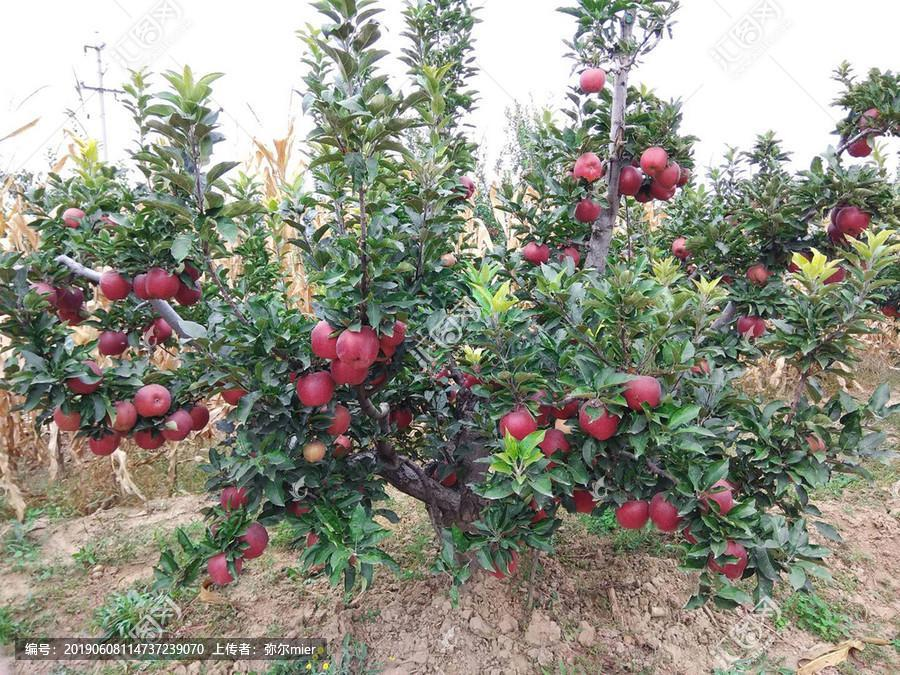apple: (335, 325, 380, 371), (577, 402, 619, 440), (708, 539, 746, 578), (295, 370, 335, 407), (619, 376, 660, 411), (134, 384, 173, 420), (650, 493, 683, 531), (501, 406, 536, 440), (699, 480, 731, 517), (310, 320, 336, 362), (107, 400, 139, 434), (836, 205, 870, 237), (239, 523, 270, 558), (143, 268, 177, 299), (617, 499, 649, 531), (208, 554, 240, 584), (101, 271, 134, 298), (537, 432, 568, 459), (642, 146, 668, 176), (575, 149, 601, 179), (861, 108, 889, 134), (577, 67, 605, 93), (847, 132, 875, 158), (55, 408, 84, 433), (89, 431, 118, 456), (135, 425, 164, 450), (657, 159, 680, 189), (619, 165, 642, 195), (99, 330, 127, 354), (30, 282, 59, 305), (221, 485, 249, 508), (522, 242, 551, 264), (330, 405, 350, 436), (575, 198, 599, 223), (178, 282, 201, 305), (305, 441, 327, 463), (62, 208, 85, 229)
